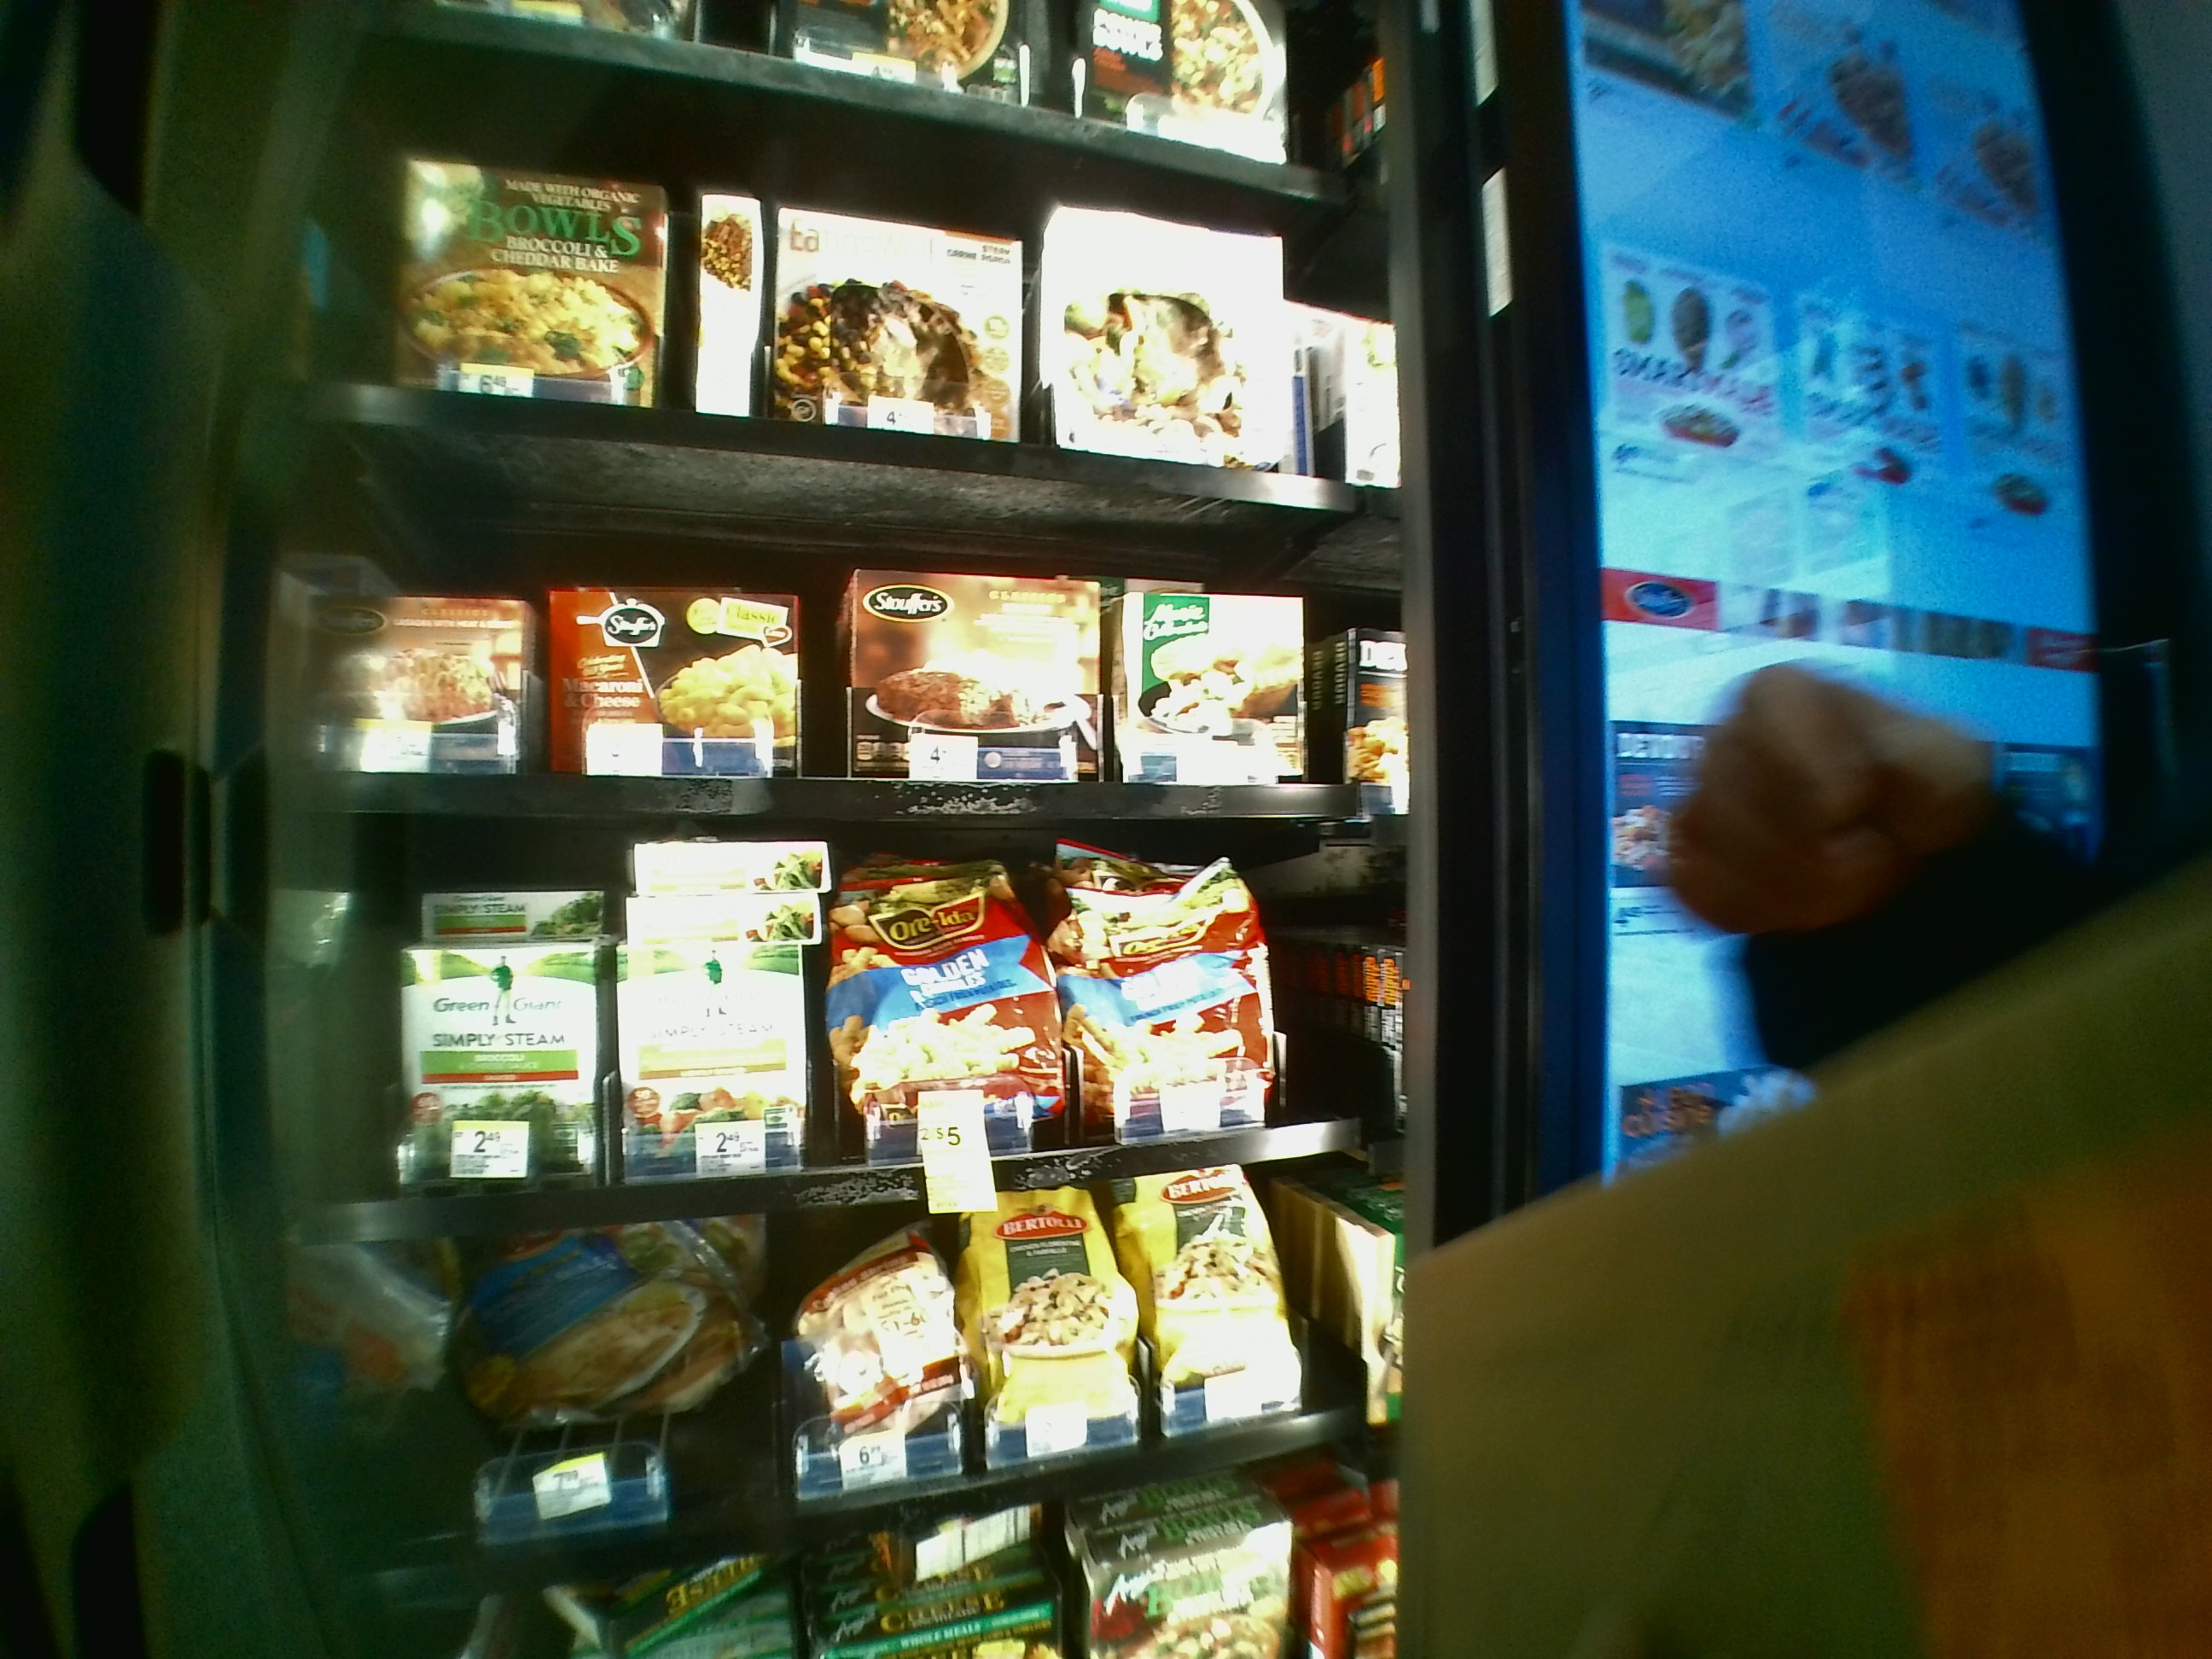shelf: (280, 836, 1406, 1244), (284, 425, 1393, 828)
